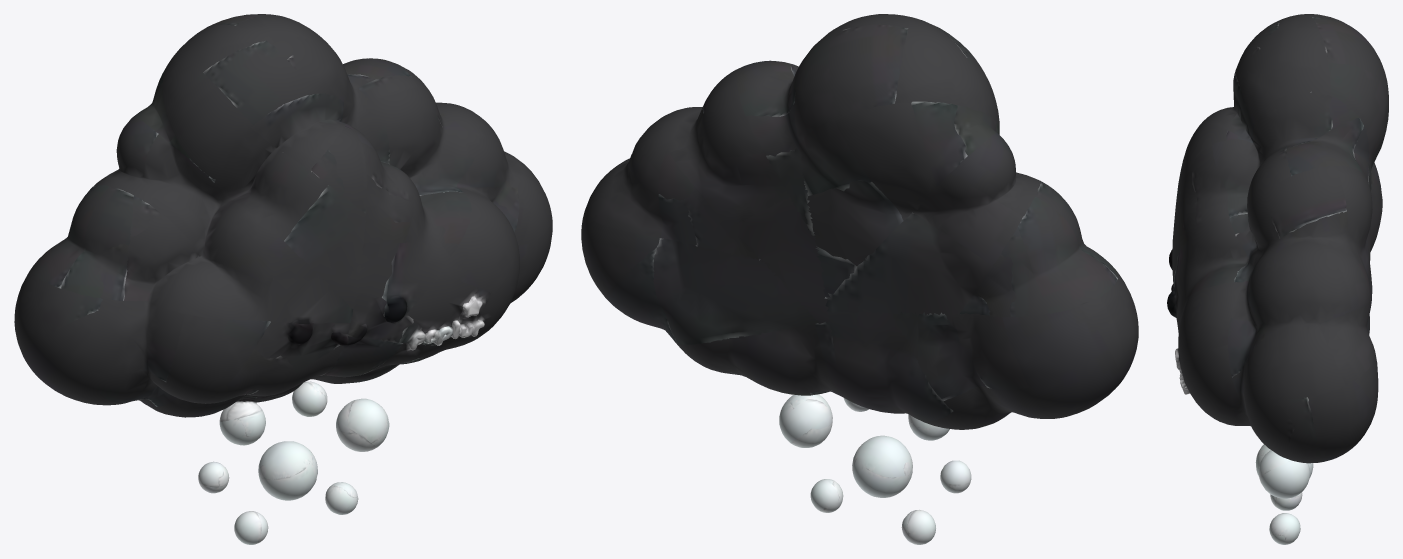
Rendered from poplur_cube_hail_cloud.glb.
The picture shows the model from 3 angles, left to right: view 1: azimuth 30°, elevation 25°; view 2: azimuth 150°, elevation 25°; view 3: azimuth 270°, elevation 25°; orthographic projection. The views are drawn at different scales.
Visible parts, largest first — view 1: mesh_node; view 2: mesh_node; view 3: mesh_node.
Boxes of the visible parts, left/top/right/bottom form: mesh_node: left=14, top=14, right=552, bottom=544; mesh_node: left=581, top=14, right=1138, bottom=544; mesh_node: left=1167, top=14, right=1388, bottom=544.
Bounding box in the file's own units: 1.9 × 1.79 × 0.7305.
1 material, 1 textured.
